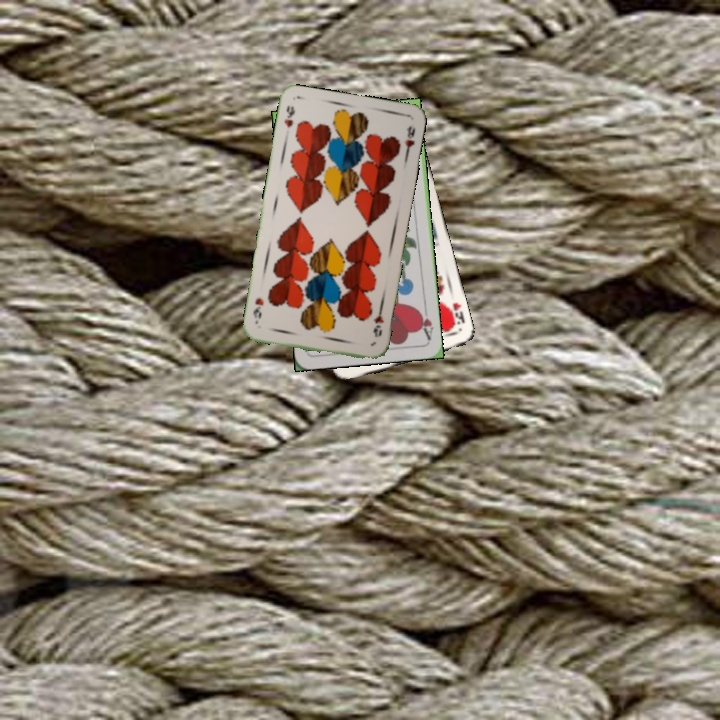H9: (369, 305, 386, 340), (280, 102, 297, 131)
HA: (415, 302, 436, 342)
HK: (442, 298, 467, 330)
